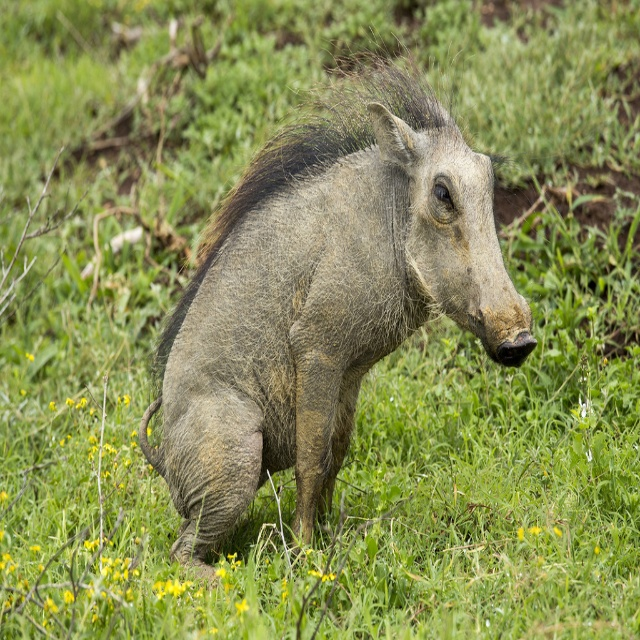Pig: (137, 26, 537, 586)
